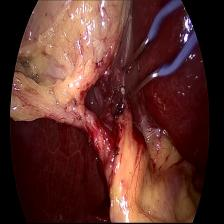Bipolar: (125, 0, 193, 106)
